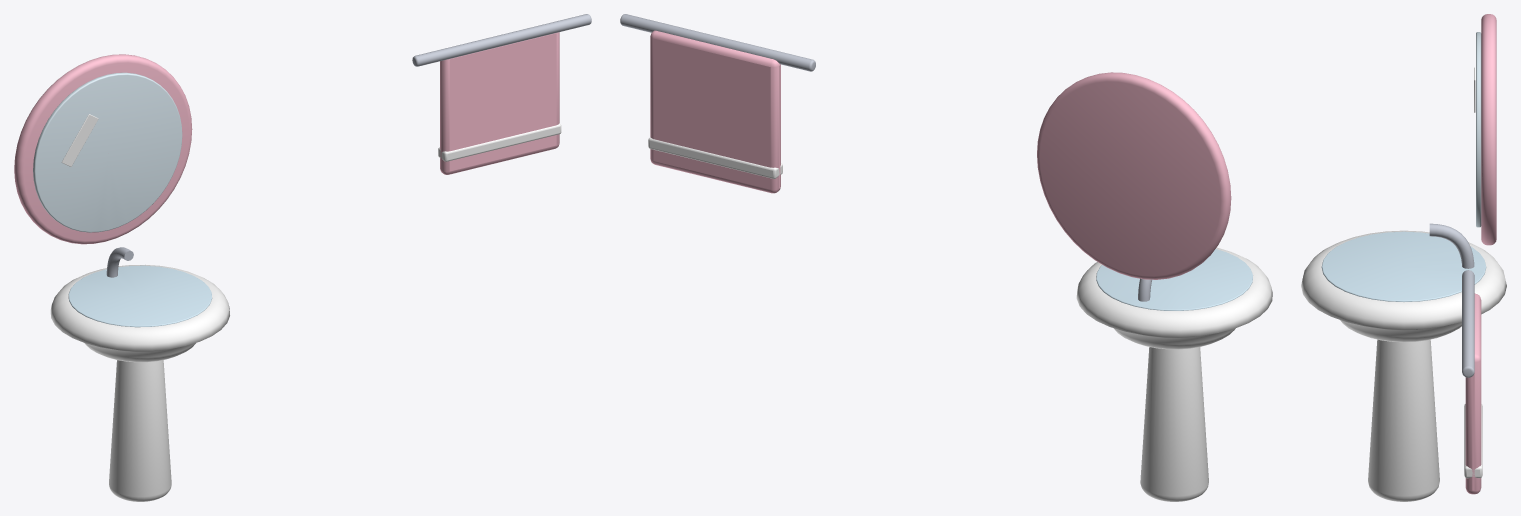
The model's file is washbasin.glb.
3 views of the same model, side by side, from view 1: azimuth 30°, elevation 25°; view 2: azimuth 150°, elevation 25°; view 3: azimuth 270°, elevation 25° (orthographic). The views are drawn at different scales.
Parts seen in each view (by area): view 1: cffc4d6, mirror, cffffff, basin_water, cc7ccd8; view 2: cffc4d6, cffffff, basin_water, cc7ccd8; view 3: cffffff, basin_water, cffc4d6, cc7ccd8, mirror.
Boxes of the visible parts, box(x1,y1,x2,y2) form: cffc4d6: box(14, 32, 559, 244); mirror: box(33, 72, 182, 232); cffffff: box(50, 114, 561, 501); basin_water: box(68, 265, 212, 327); cc7ccd8: box(106, 14, 591, 277); cffc4d6: box(650, 30, 1231, 279); cffffff: box(648, 137, 1272, 501); basin_water: box(1096, 249, 1252, 310); cc7ccd8: box(620, 14, 1151, 301); cffffff: box(1301, 67, 1506, 501); basin_water: box(1321, 231, 1486, 301); cffc4d6: box(1465, 14, 1496, 494); cc7ccd8: box(1429, 223, 1474, 377); mirror: box(1476, 32, 1481, 227).
Size of the model in its own units: 2.9 by 1.99 by 0.8.
